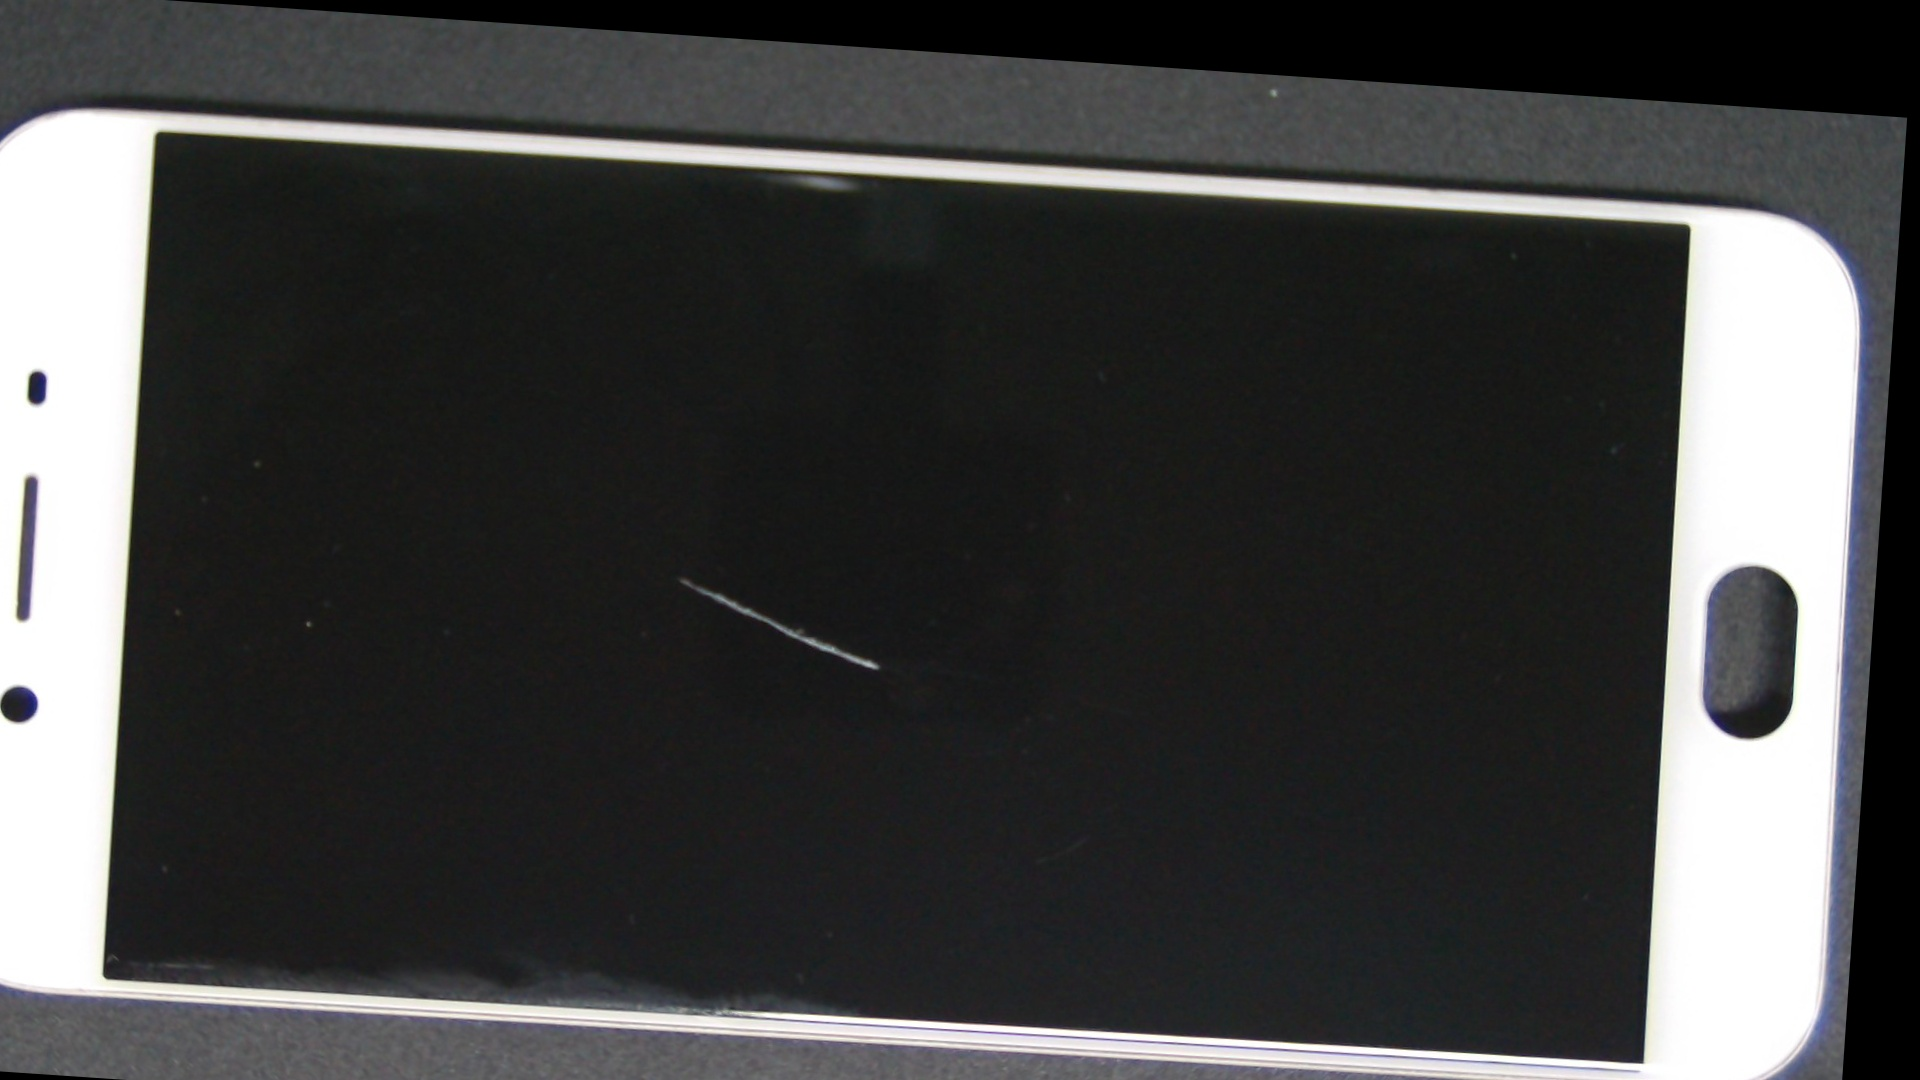oil: (274, 280, 1088, 873)
